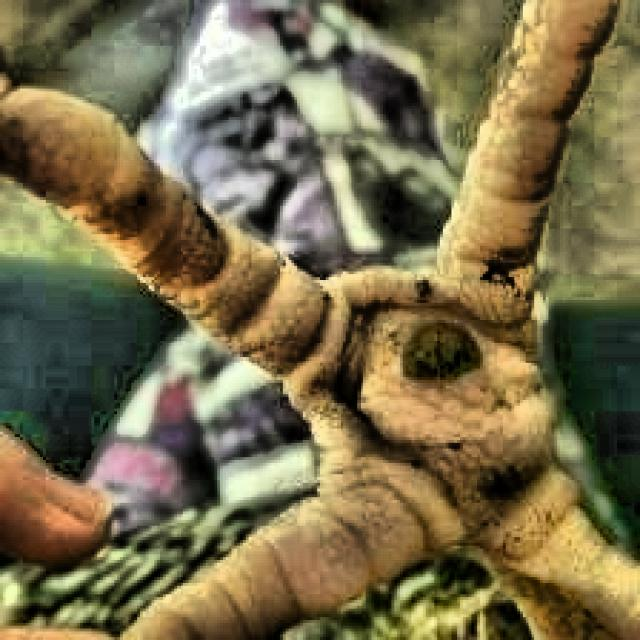Bumble foot: (336, 271, 546, 424)
